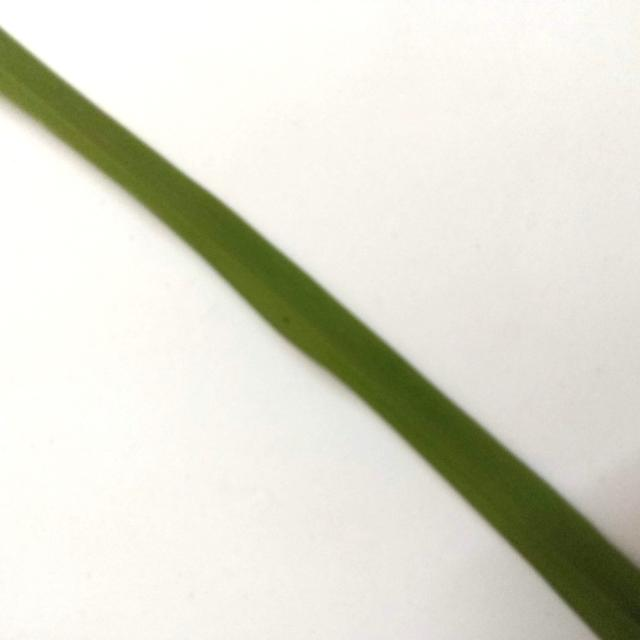Rice_Healthy: (0, 29, 640, 640)
